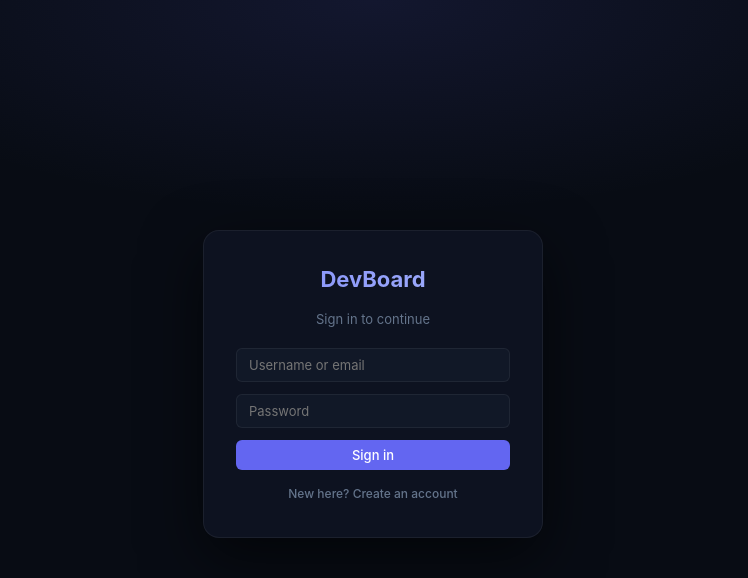
Test case: LoginPage — behaviour › toggles to the registration form and shows the email field
The image size is (748, 578).
What coordinates should you click on to do the following:
click the button "New here? Create an account"
I would click on:
 (373, 493)
Its box is [236,482,510,505].
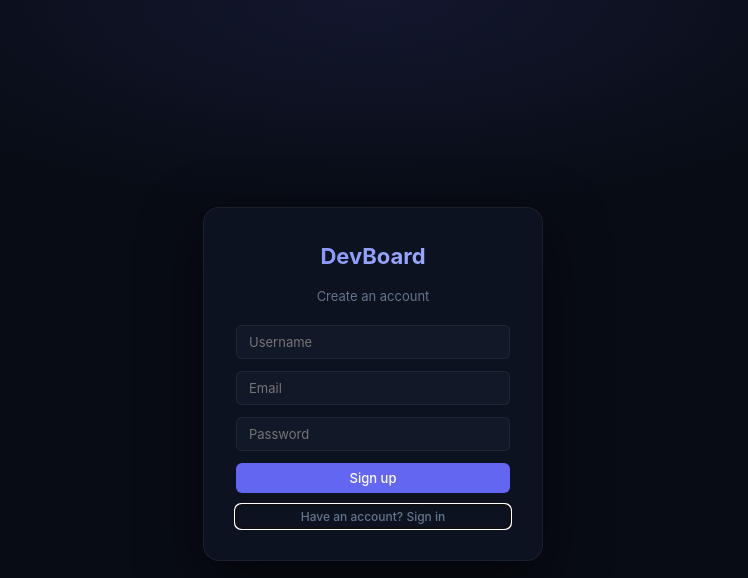
Expected: the field with placeholder "Email" is shown, [236,371,510,405]
Expected: the button "Sign up" is shown, [236,463,510,493]
